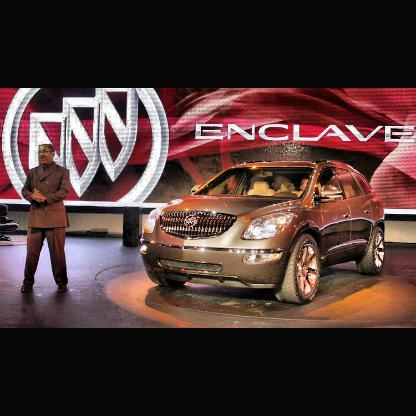Buick Enclave SUV 2012: (139, 160, 388, 306)
